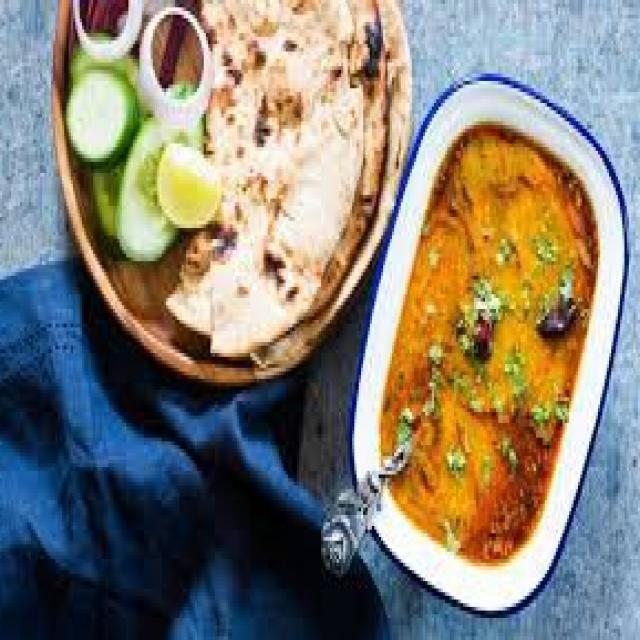Daal: (361, 144, 607, 581)
Roti: (177, 0, 425, 390)
